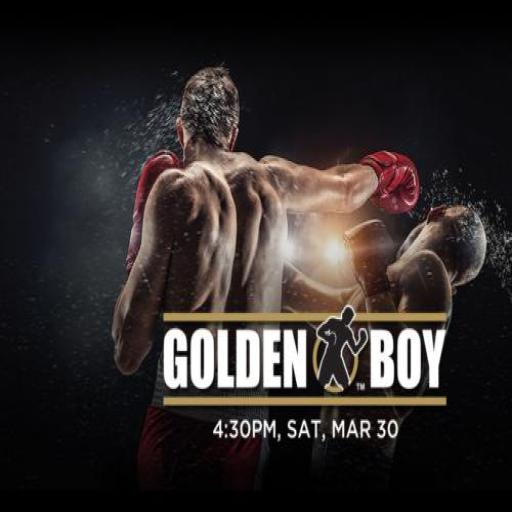boxing: (110, 62, 486, 506)
